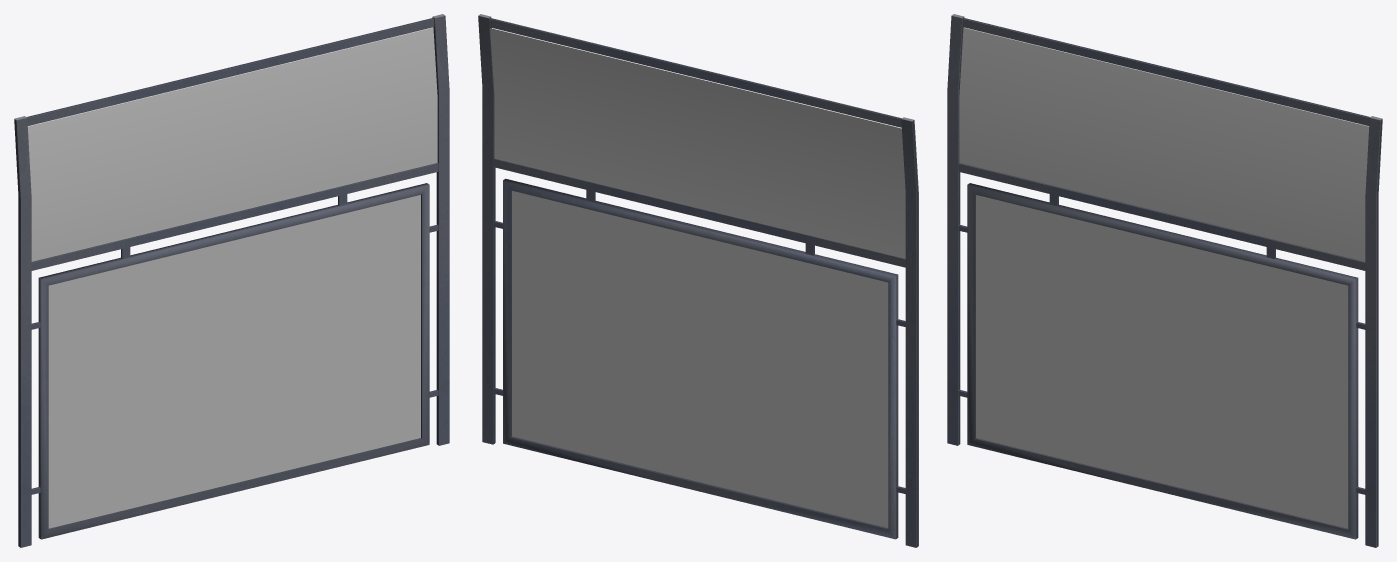
3 views of the same model, side by side, from view 1: azimuth 30°, elevation 25°; view 2: azimuth 150°, elevation 25°; view 3: azimuth 330°, elevation 25° (orthographic).
Parts seen in each view (by area): view 1: PK_model_wire02, PK_model_mesh; view 2: PK_model_wire02, PK_model_mesh; view 3: PK_model_wire02, PK_model_mesh.
Boxes of the visible parts, left/top/right/bottom form: PK_model_wire02: left=28, top=27, right=437, bottom=528; PK_model_mesh: left=14, top=14, right=449, bottom=547; PK_model_wire02: left=490, top=28, right=905, bottom=527; PK_model_mesh: left=478, top=14, right=918, bottom=547; PK_model_wire02: left=959, top=27, right=1368, bottom=528; PK_model_mesh: left=947, top=14, right=1382, bottom=547.
Size of the model in its own units: 358 by 339 by 9.69.
